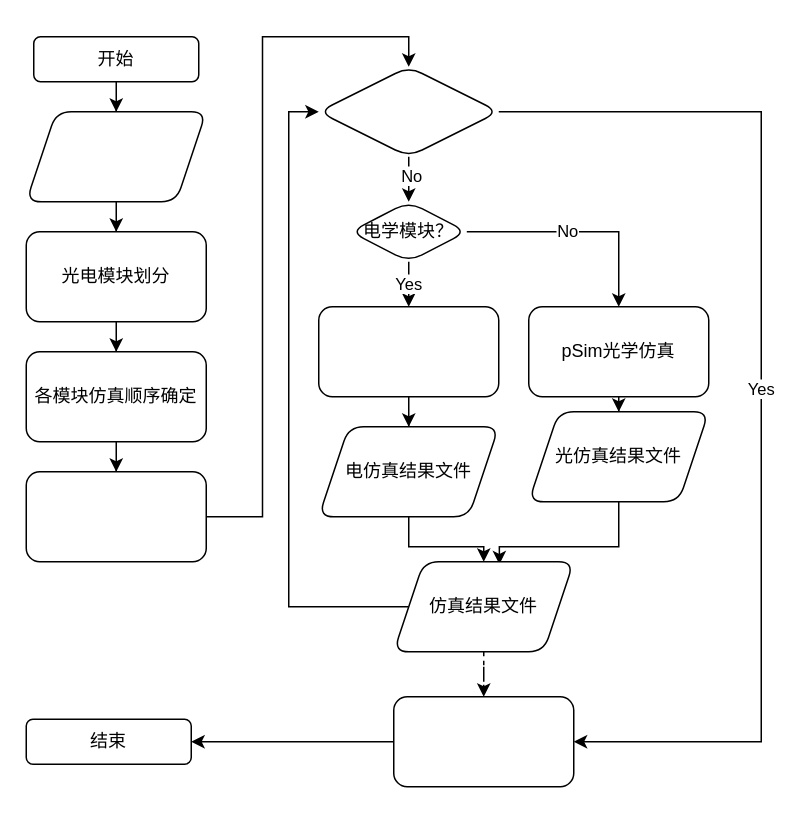
This 801x813 diagram has some shape labels left out. Each missing label, with the centre of its shape:
All circuit be compiled?: (x=408, y=111)
BTDsim仿真: (x=408, y=351)
光和电转换入口确定: (x=115, y=516)
光电仿真结果时序同步: (x=483, y=741)
光电混合网表: (x=115, y=156)
